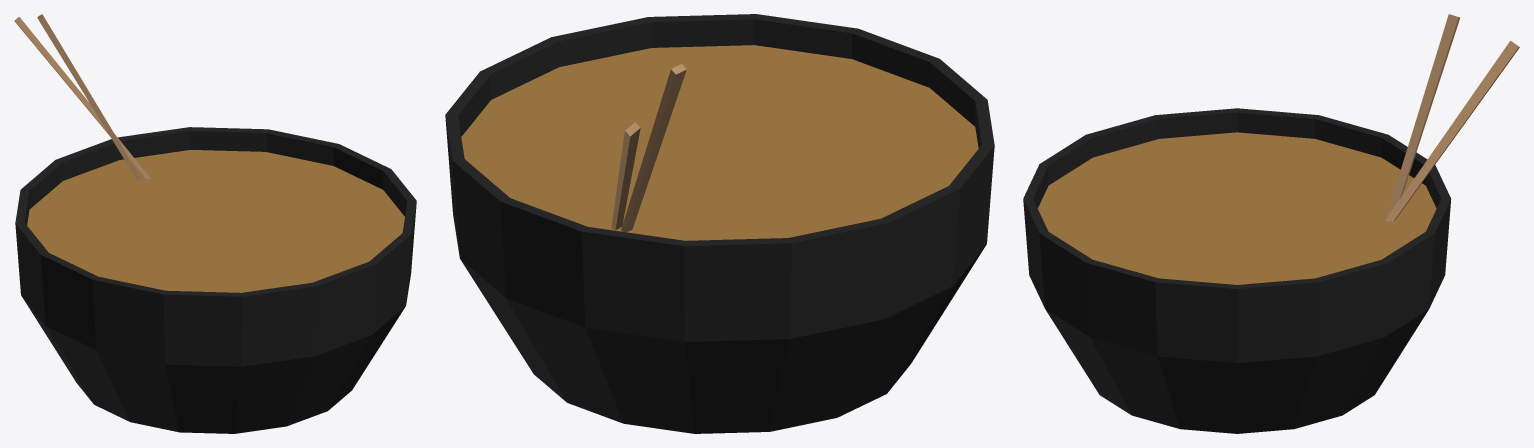
The model's file is SM_soupbowl.fbx.
The picture shows the model from 3 angles, left to right: view 1: azimuth 30°, elevation 25°; view 2: azimuth 150°, elevation 25°; view 3: azimuth 270°, elevation 25°; orthographic projection. The views are drawn at different scales.
Visible parts, largest first — view 1: Cylinder043; view 2: Cylinder043; view 3: Cylinder043.
Boxes of the visible parts, box(x1,y1,x2,y2) form: Cylinder043: box(14, 14, 416, 433); Cylinder043: box(445, 14, 994, 433); Cylinder043: box(1023, 14, 1519, 433).
Bounding box in the file's own units: 15.15 × 17.57 × 14.03.
